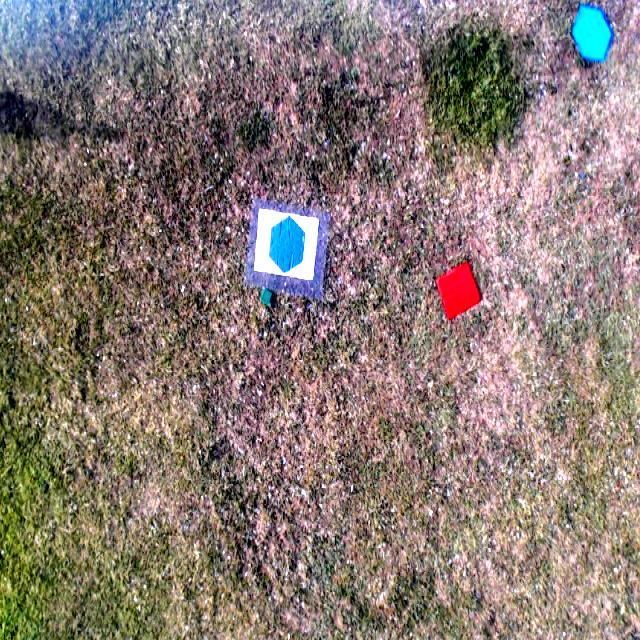blue_hexagon: (268, 212, 307, 274), (574, 7, 613, 64)
red_square: (438, 261, 481, 318)
